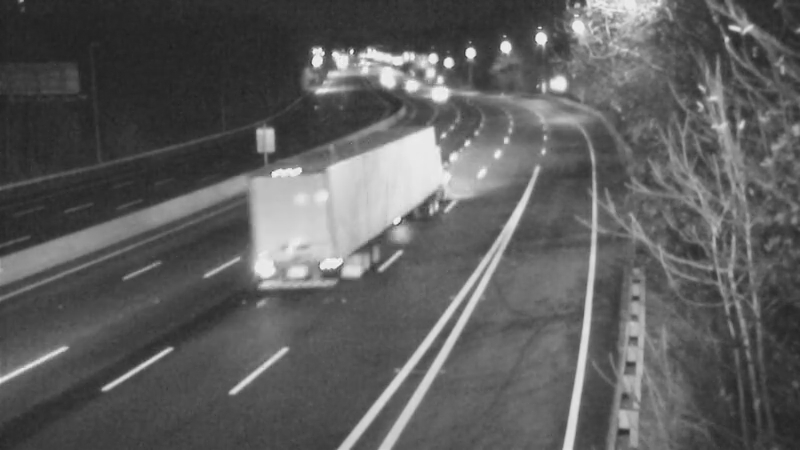vehicle: (308, 179, 388, 259), (383, 59, 433, 109), (415, 67, 465, 117)
